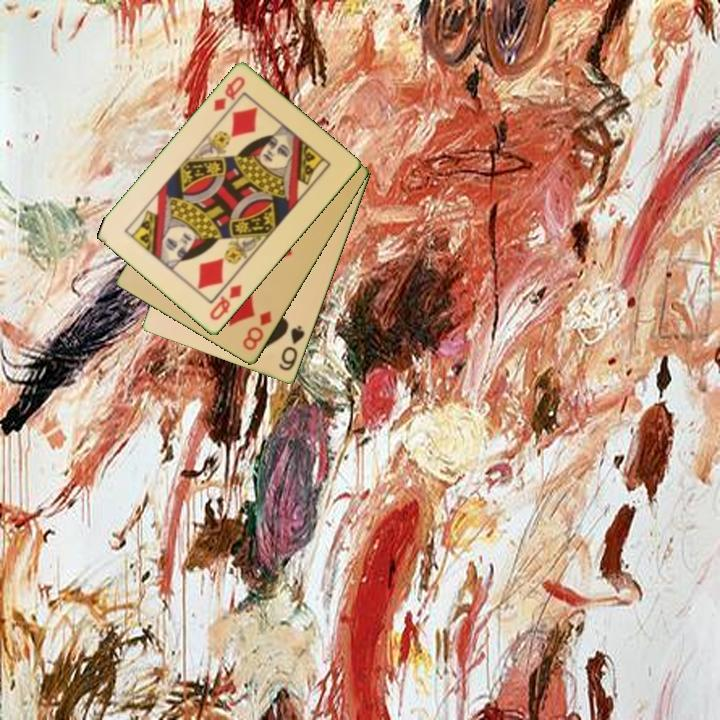6s: (275, 322, 308, 374)
8d: (239, 307, 275, 354)
Qd: (206, 281, 245, 324), (210, 73, 248, 115)
